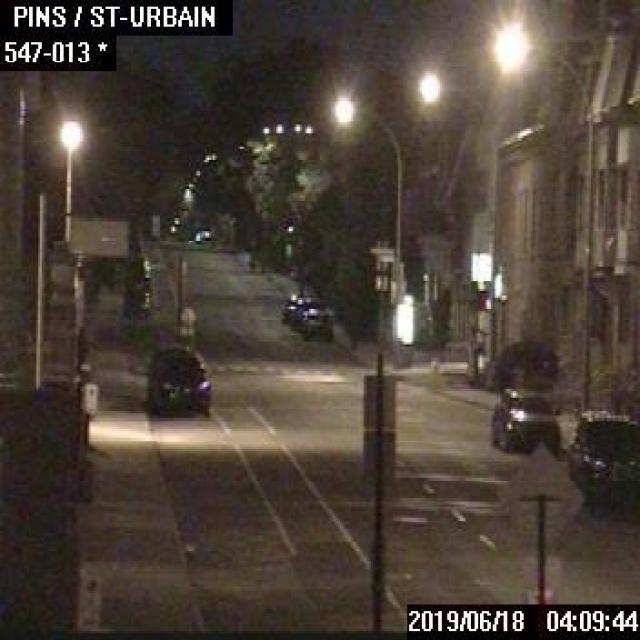vehicle: (567, 408, 638, 490), (490, 384, 558, 454), (146, 352, 210, 416), (150, 342, 202, 370), (298, 304, 332, 337), (290, 295, 318, 326), (281, 290, 305, 317)
